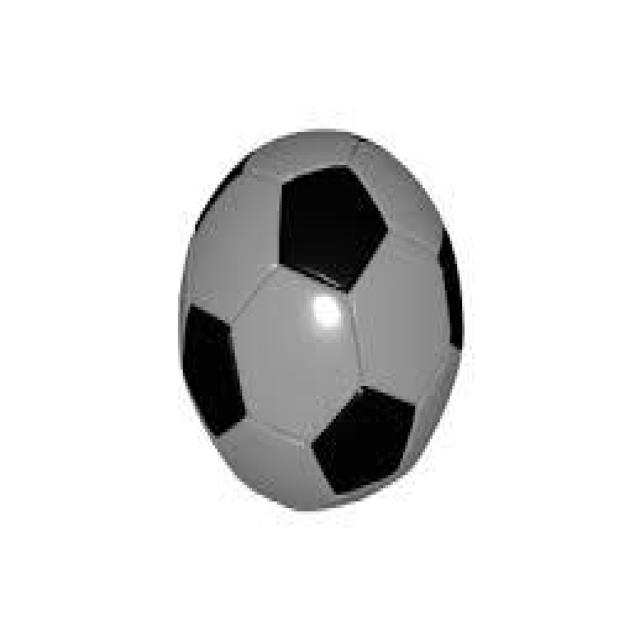Soccer Ball: (178, 126, 464, 512)
